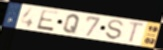4: (19, 7, 35, 29)
7: (84, 15, 103, 38)
E: (35, 9, 61, 32)
Q: (62, 14, 82, 35)
S: (105, 19, 126, 41)
T: (127, 21, 146, 44)
